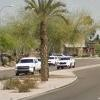Palm tree: (23, 2, 64, 87)
